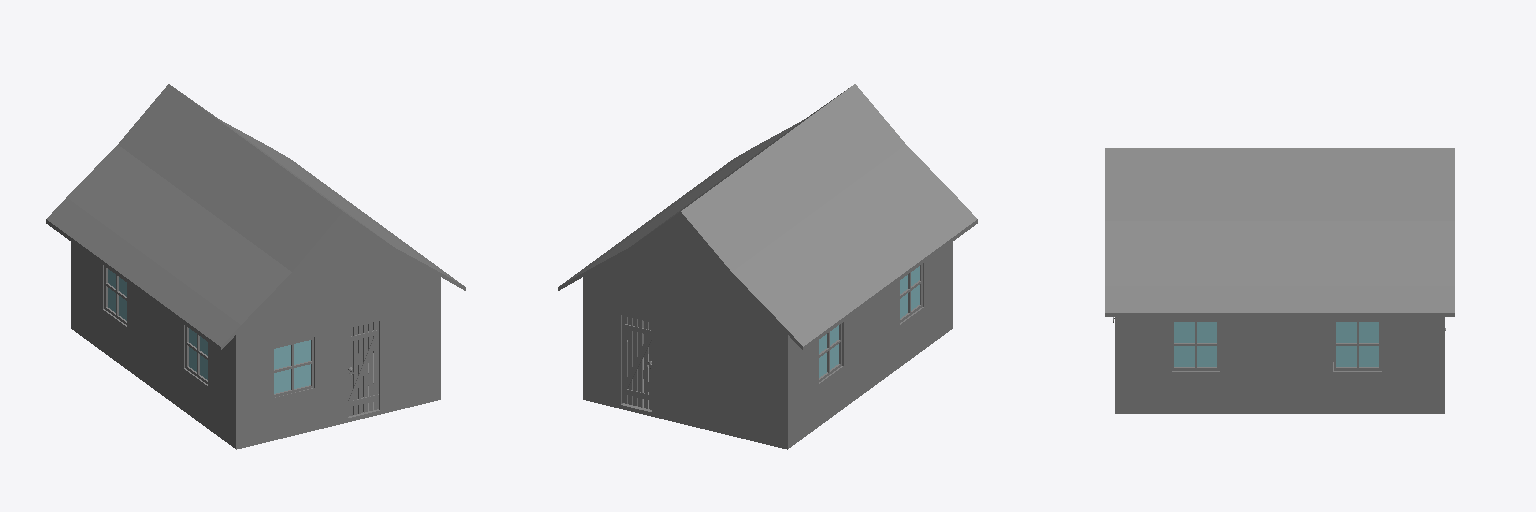
Rendered from woodhouse.obj.
3 renders of one model, left to right at view 1: azimuth 30°, elevation 25°; view 2: azimuth 150°, elevation 25°; view 3: azimuth 270°, elevation 25°, orthographic.
Visible parts, largest first — view 1: MedievalHouse1; view 2: MedievalHouse1; view 3: MedievalHouse1.
Part boxes in pixels (left/top/right/bottom): MedievalHouse1: left=46, top=84, right=465, bottom=449; MedievalHouse1: left=558, top=84, right=977, bottom=449; MedievalHouse1: left=1105, top=148, right=1454, bottom=413.
Bounding box in the file's own units: 600 × 507 × 740.